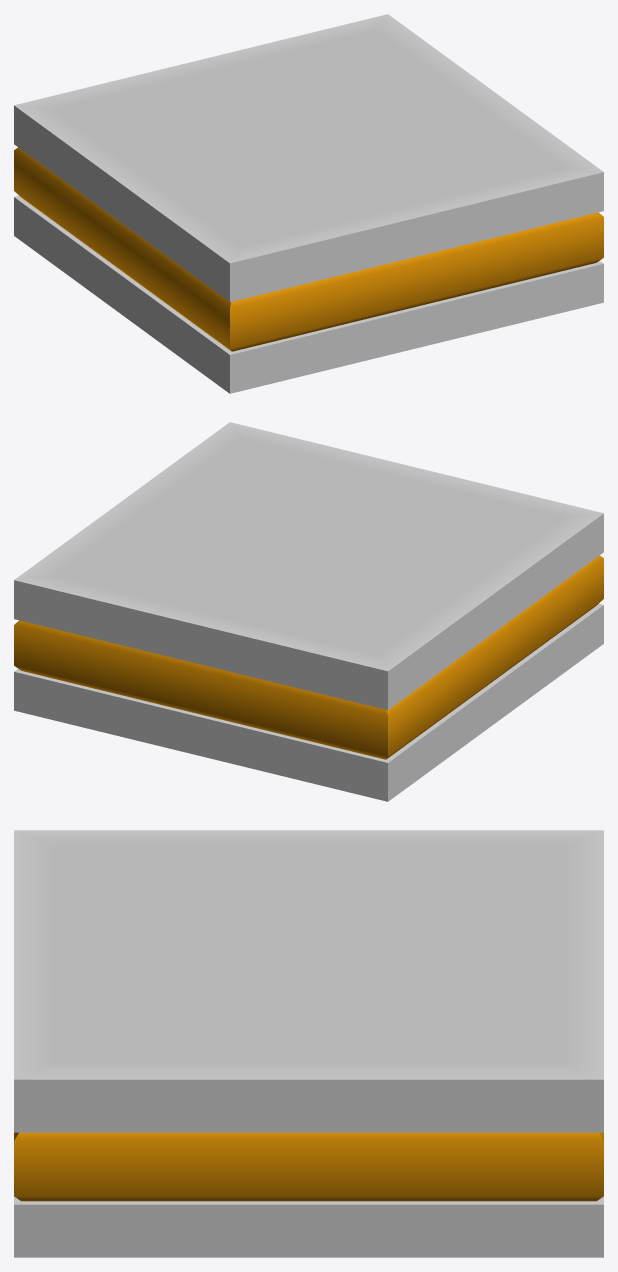
The model's file is obj_dekotora_floorsquare01.fbx.
3 renders of one model, top to bottom at view 1: azimuth 30°, elevation 25°; view 2: azimuth 150°, elevation 25°; view 3: azimuth 270°, elevation 25°, orthographic. The views are drawn at different scales.
Parts seen in each view (by area): view 1: Cube.035; view 2: Cube.035; view 3: Cube.035.
Boxes of the visible parts, <box> form: Cube.035: <box>14,14,603,393</box>; Cube.035: <box>14,422,603,801</box>; Cube.035: <box>14,830,603,1257</box>.
Size of the model in its own units: 3 by 1 by 3.
